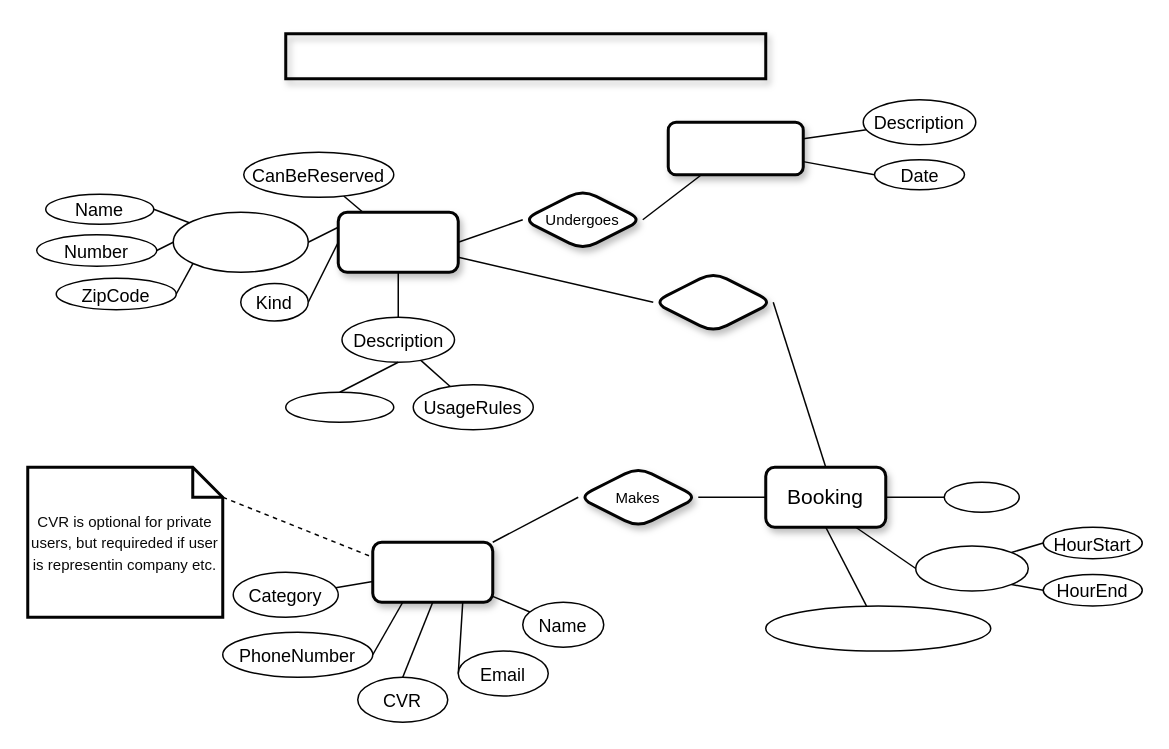
Image size: 1169x749. Some labels were removed from this diagram. The shapes that lost their labels are listed below. From the top down, each one's centre as x and y in pixels, then its label:
At (x=527, y=58): "Recreational Facility management system".
At (x=736, y=150): "Maintenance Intervention".
At (x=240, y=241): "Closest Address".
At (x=399, y=244): "Facility".
At (x=714, y=304): "Reserves".
At (x=339, y=406): "Items".
At (x=981, y=496): "Note".
At (x=433, y=574): "User".
At (x=971, y=567): "HourSlots".
At (x=877, y=627): "NumberOfParticipants".
